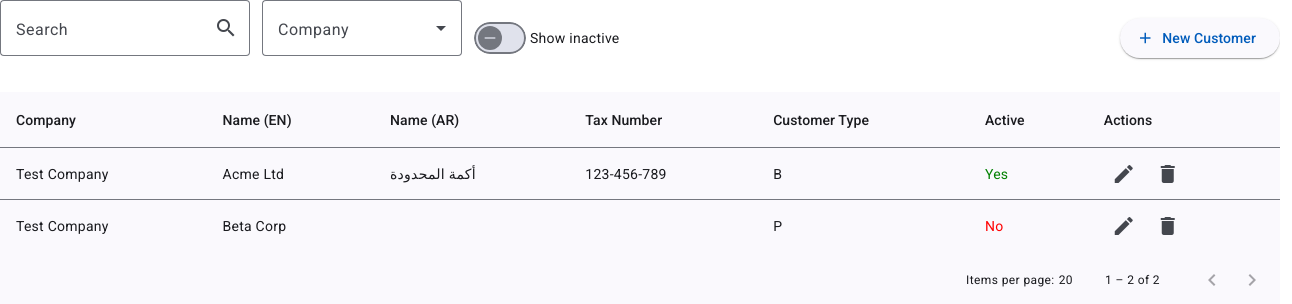
Test: EtaCustomerListComponent › should display "All companies" as default option in dropdown
Click the dropdown at [441, 28], box [429,16,453,40]
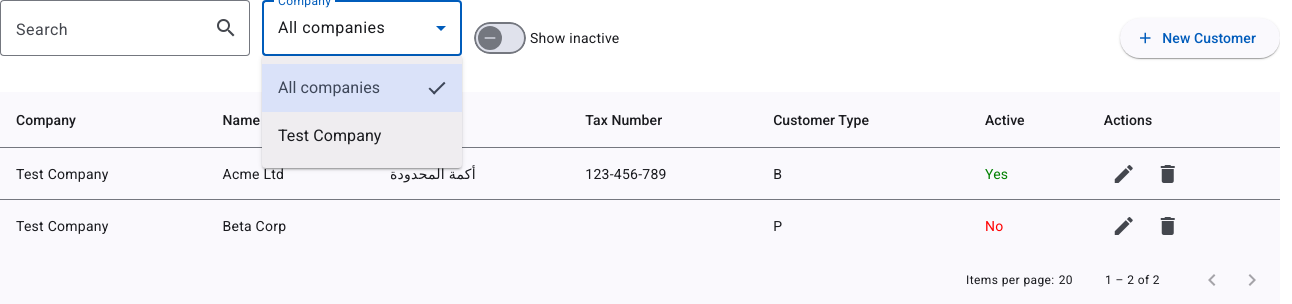
Expected: the option "All companies" is shown, [262,64,462,112]
Expected: the 1st text "All companies" is shown, [278,18,385,37]
